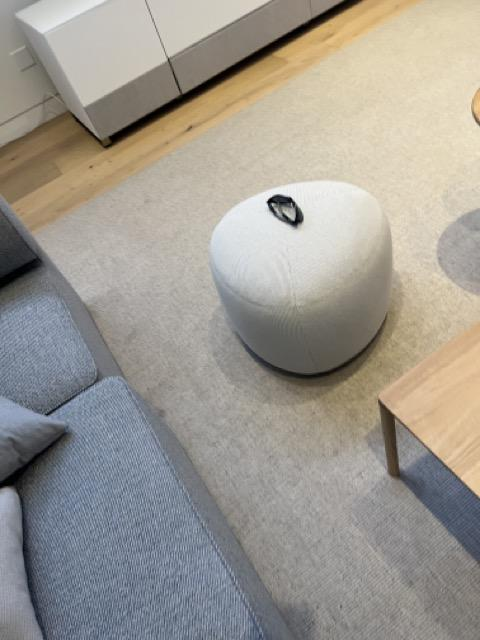Sunglasses: (266, 193, 305, 228)
